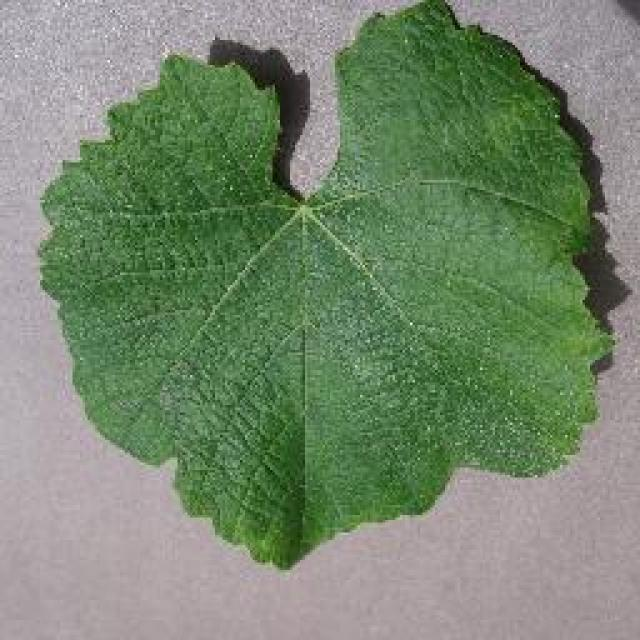Grape___healthy: (40, 0, 608, 568)
